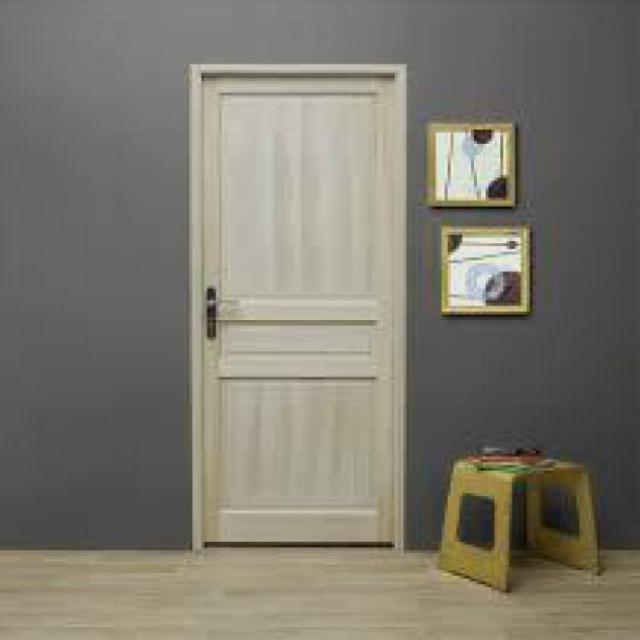door: (195, 64, 405, 549)
